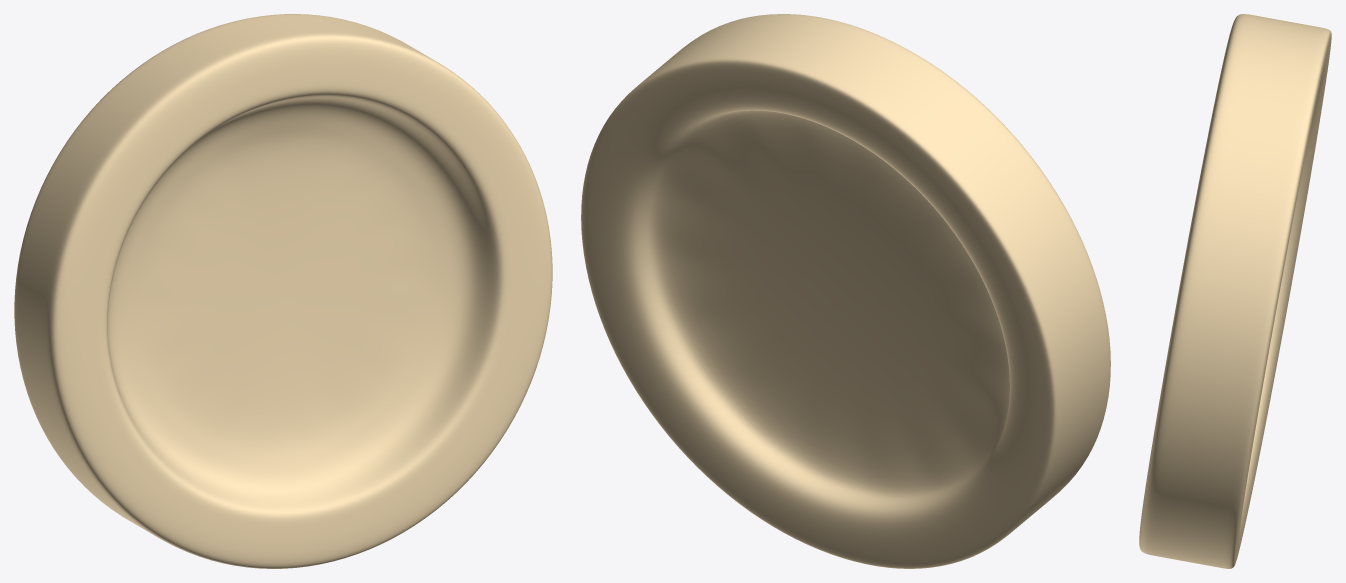
The model's file is coin.fbx.
3 renders of one model, left to right at view 1: azimuth 30°, elevation 25°; view 2: azimuth 150°, elevation 25°; view 3: azimuth 270°, elevation 25°, orthographic. The views are drawn at different scales.
Parts seen in each view (by area): view 1: Coin; view 2: Coin; view 3: Coin.
Part boxes in pixels (x1,y1,x2,y2): Coin: (14, 14, 552, 568); Coin: (581, 14, 1110, 568); Coin: (1139, 14, 1331, 568).
Size of the model in its own units: 197 by 197 by 68.25.
